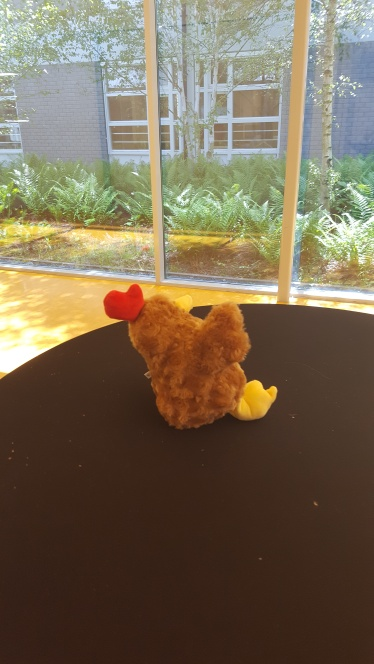chicken_left: (101, 281, 279, 430)
